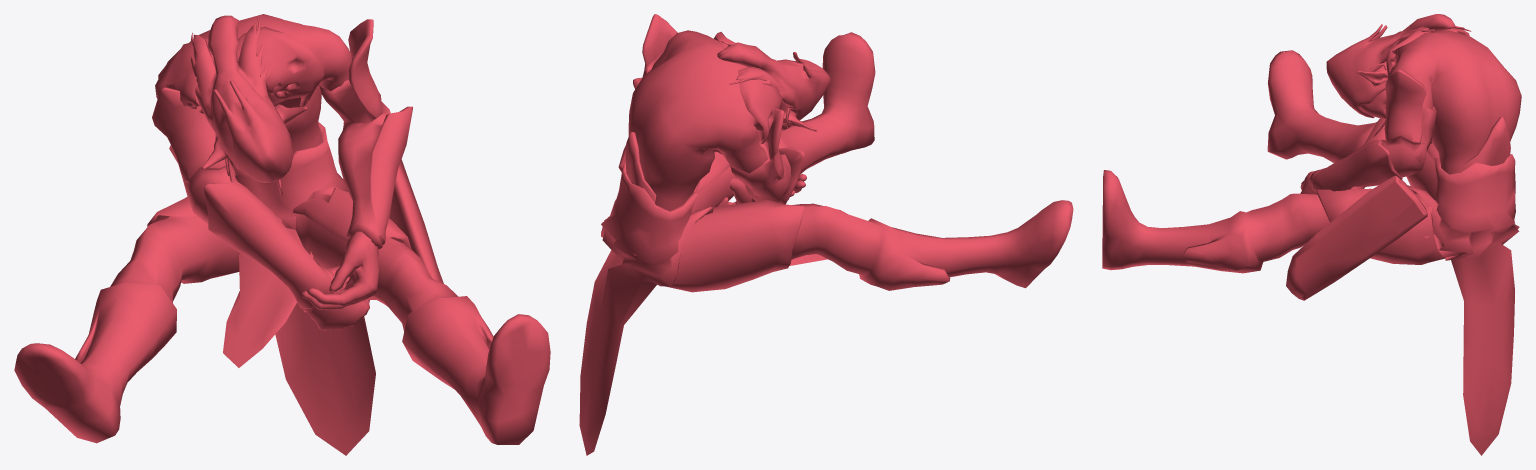
Rendered from deadman.fbx.
3 renders of one model, left to right at view 1: azimuth 30°, elevation 25°; view 2: azimuth 150°, elevation 25°; view 3: azimuth 270°, elevation 25°, orthographic. The views are drawn at different scales.
Parts seen in each view (by area): view 1: polySurface1; view 2: polySurface1; view 3: polySurface1.
Part boxes in pixels (x1,y1,x2,y2): polySurface1: (14, 14, 550, 455); polySurface1: (579, 14, 1073, 455); polySurface1: (1102, 14, 1521, 455).
Size of the model in its own units: 124 by 126 by 124.
